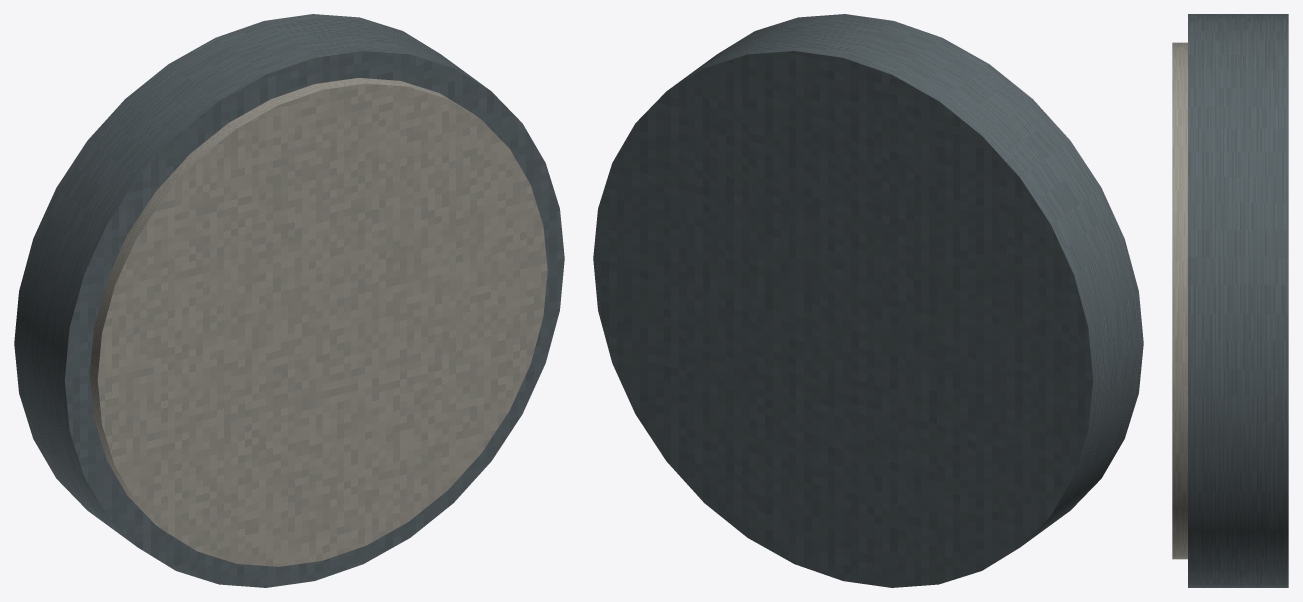
Rendered from cleanout.glb.
The picture shows the model from 3 angles, left to right: view 1: azimuth 30°, elevation 25°; view 2: azimuth 150°, elevation 25°; view 3: azimuth 270°, elevation 25°; orthographic projection.
Parts seen in each view (by area): view 1: face, rim; view 2: rim; view 3: rim, face.
Boxes of the visible parts, x1,y1,x2,y2 form: face: (89,78,547,566); rim: (14,14,564,587); rim: (593,14,1143,587); rim: (1188,14,1288,587); face: (1172,42,1187,559).
Bounding box in the file's own units: 0.1 × 0.1 × 0.0203.
2 materials, 2 textured.
